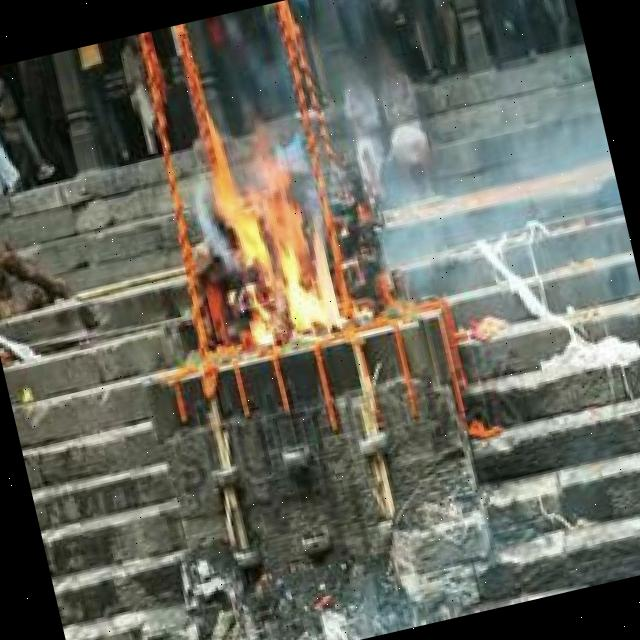fire: (197, 116, 353, 354)
